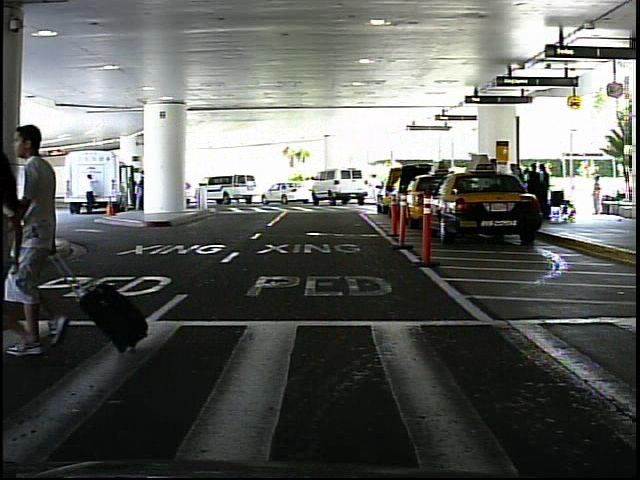person: (22, 113, 78, 360), (588, 172, 607, 218), (83, 172, 99, 214), (369, 168, 381, 203)
